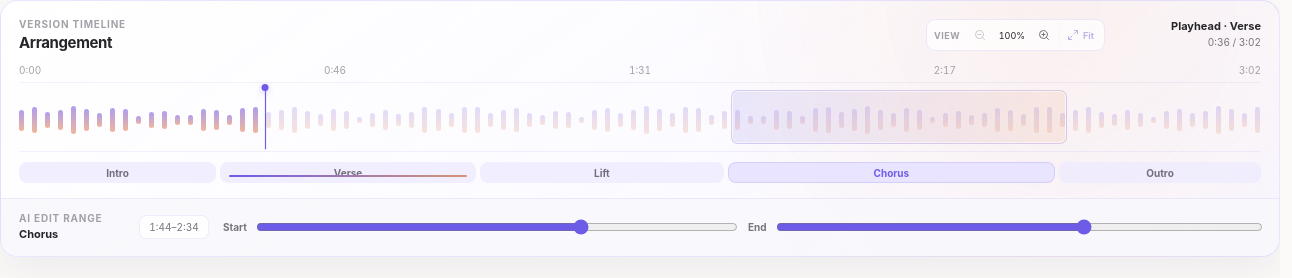
Test: Studio timeline › offers zoom controls without changing the selected arrangement range
This screenshot has width=1292, height=278.
Expected: the message named "Timeline zoom" reads "100%", [999, 30, 1025, 40]
Expected: the button named "Zoom out timeline" is disabled, [968, 23, 992, 47]
What coordinates should you click on to do the following:
click the button named "Zoom in timeline"
I would click on:
 (1044, 35)
Its box is [1032, 23, 1056, 47].
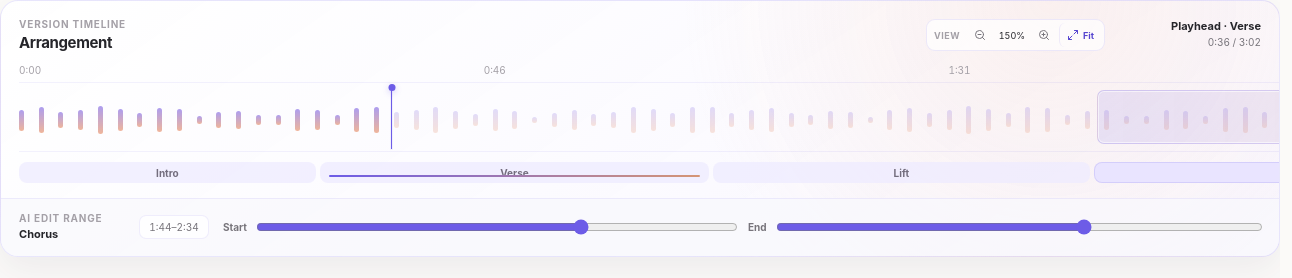
Now the message named "Timeline zoom" reads "150%", box [999, 30, 1025, 40]
What coordinates should you click on to do the following:
click the button with aria-label "Fit timeline"
I would click on:
 (1080, 35)
Its box is [1059, 23, 1101, 47].
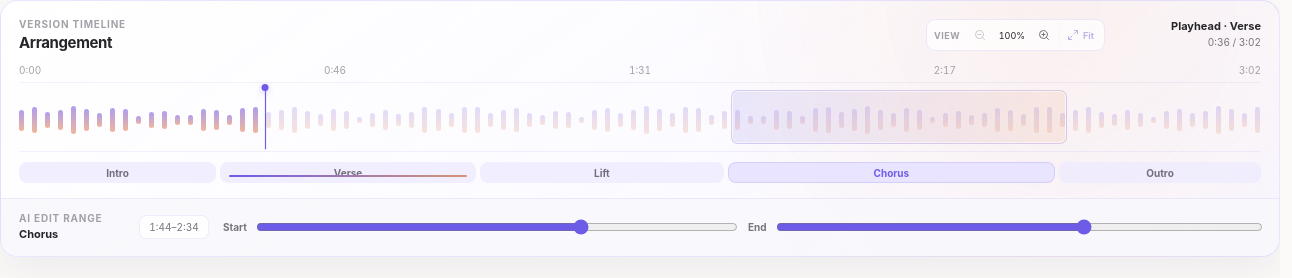
Now the message named "Timeline zoom" reads "100%", box [999, 30, 1025, 40]
